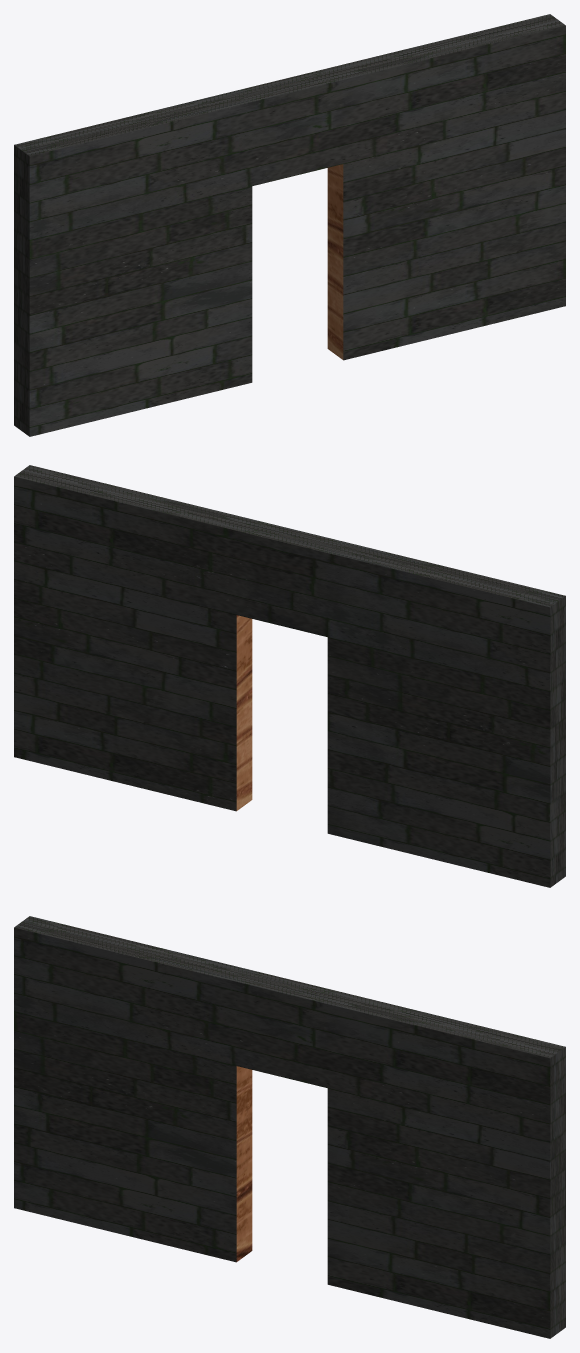
File: wand-door.glb
3 renders of one model, top to bottom at view 1: azimuth 30°, elevation 25°; view 2: azimuth 150°, elevation 25°; view 3: azimuth 330°, elevation 25°, orthographic.
Visible parts, largest first — view 1: Cube; view 2: Cube; view 3: Cube.
Boxes of the visible parts, x1,y1,x2,y2 form: Cube: (14, 14, 565, 436); Cube: (14, 465, 565, 887); Cube: (14, 916, 565, 1338).
Size of the model in its own units: 10 by 5 by 0.5088.
Materials: 2 (2 with a texture image).
